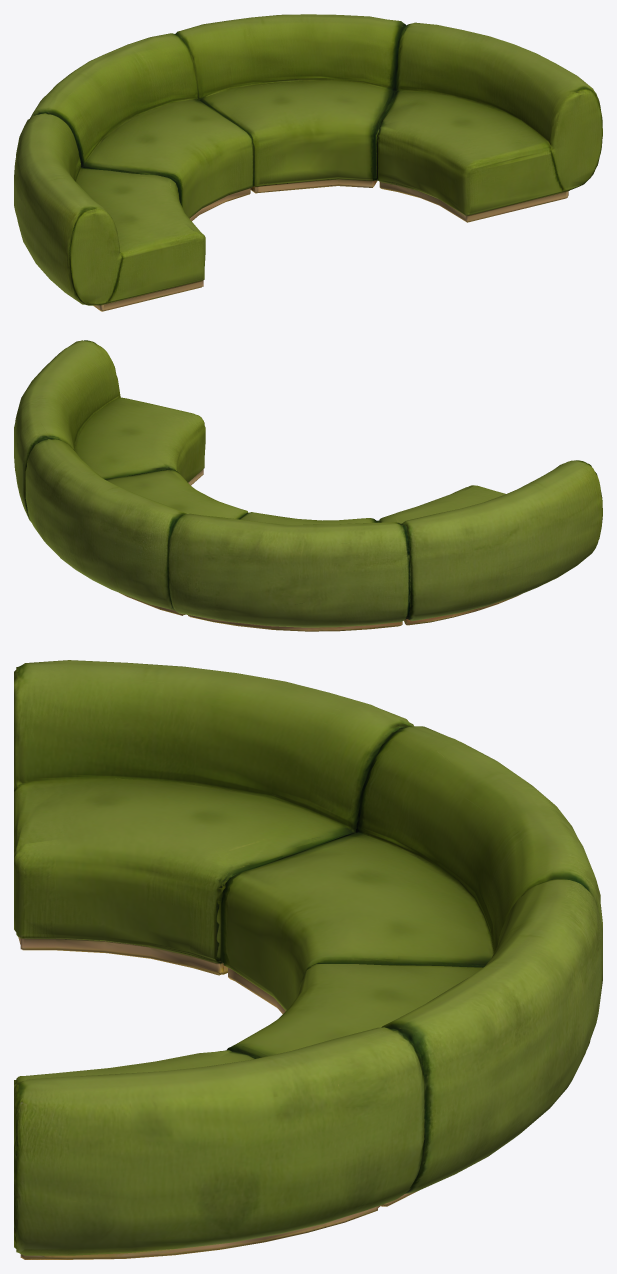
File: green_curvey_sofa_0127183539_texture.glb
The picture shows the model from 3 angles, top to bottom: view 1: azimuth 30°, elevation 25°; view 2: azimuth 150°, elevation 25°; view 3: azimuth 270°, elevation 25°; orthographic projection. The views are drawn at different scales.
Visible parts, largest first — view 1: Mesh_0.001; view 2: Mesh_0.001; view 3: Mesh_0.001.
Part boxes in pixels (<box>): Mesh_0.001: <box>14,14,602,311</box>; Mesh_0.001: <box>14,340,602,631</box>; Mesh_0.001: <box>14,660,602,1259</box>.
Bounding box in the file's own units: 4.17 × 0.8128 × 2.28.
Materials: 1 (1 with a texture image).
